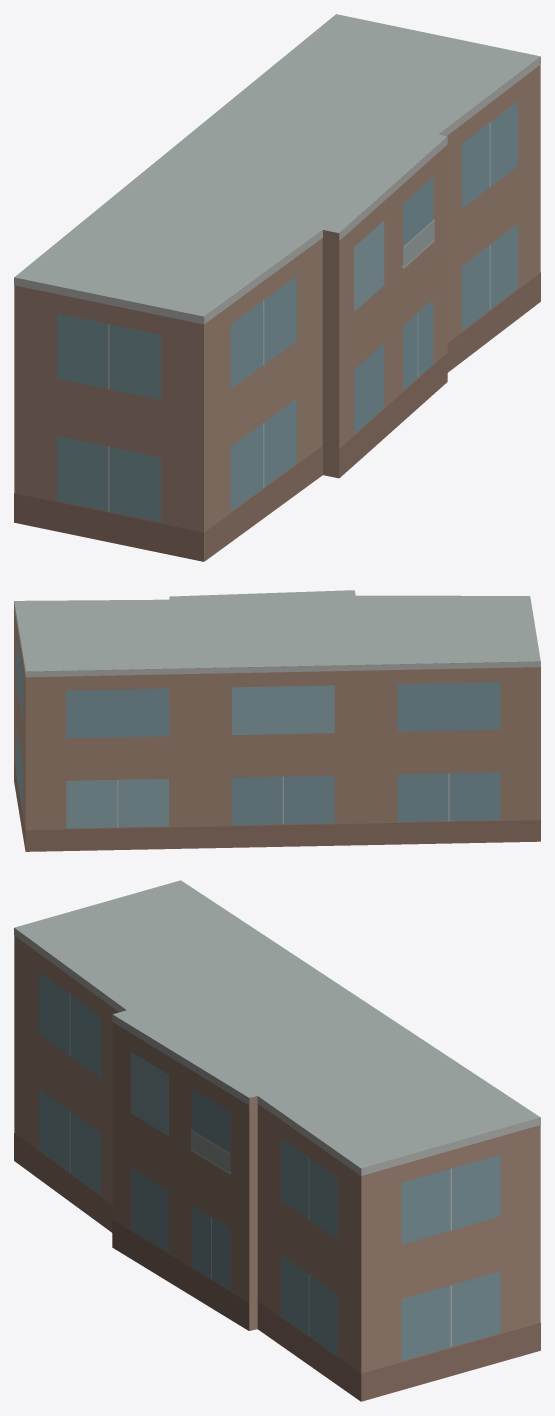
File: survey-upis-32638082.glb
3 renders of one model, top to bottom at view 1: azimuth 30°, elevation 25°; view 2: azimuth 150°, elevation 25°; view 3: azimuth 270°, elevation 25°, orthographic. The views are drawn at different scales.
Visible parts, largest first — view 1: survey-upis-32638082.tmp; view 2: survey-upis-32638082.tmp; view 3: survey-upis-32638082.tmp.
Boxes of the visible parts, left/top/right/bottom form: survey-upis-32638082.tmp: left=14, top=14, right=540, bottom=561; survey-upis-32638082.tmp: left=14, top=590, right=540, bottom=851; survey-upis-32638082.tmp: left=14, top=880, right=540, bottom=1401.
Bounding box in the file's own units: 20.17 × 7.6 × 15.57.
